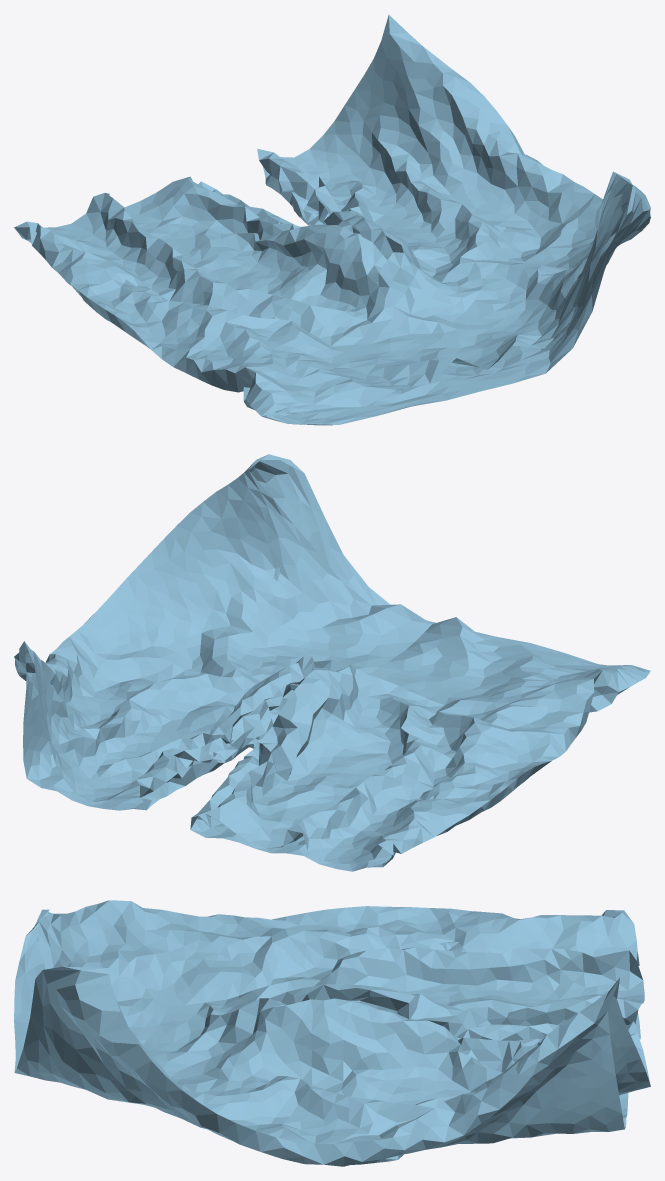
File: frame_05.glb
3 renders of one model, top to bottom at view 1: azimuth 30°, elevation 25°; view 2: azimuth 150°, elevation 25°; view 3: azimuth 270°, elevation 25°, orthographic. The views are drawn at different scales.
Visible parts, largest first — view 1: frame_05.obj; view 2: frame_05.obj; view 3: frame_05.obj.
Part boxes in pixels (x1,y1,x2,y2): frame_05.obj: (14, 15, 650, 425); frame_05.obj: (14, 454, 650, 871); frame_05.obj: (14, 900, 650, 1166).
Bounding box in the file's own units: 1.46 × 0.4695 × 1.5.
